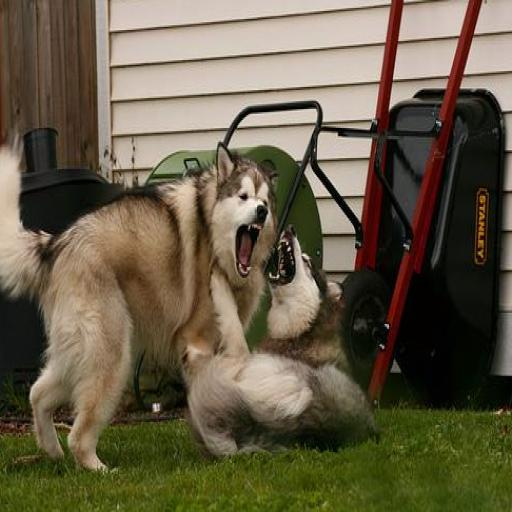dog_face: (212, 142, 270, 291), (274, 219, 325, 314)
